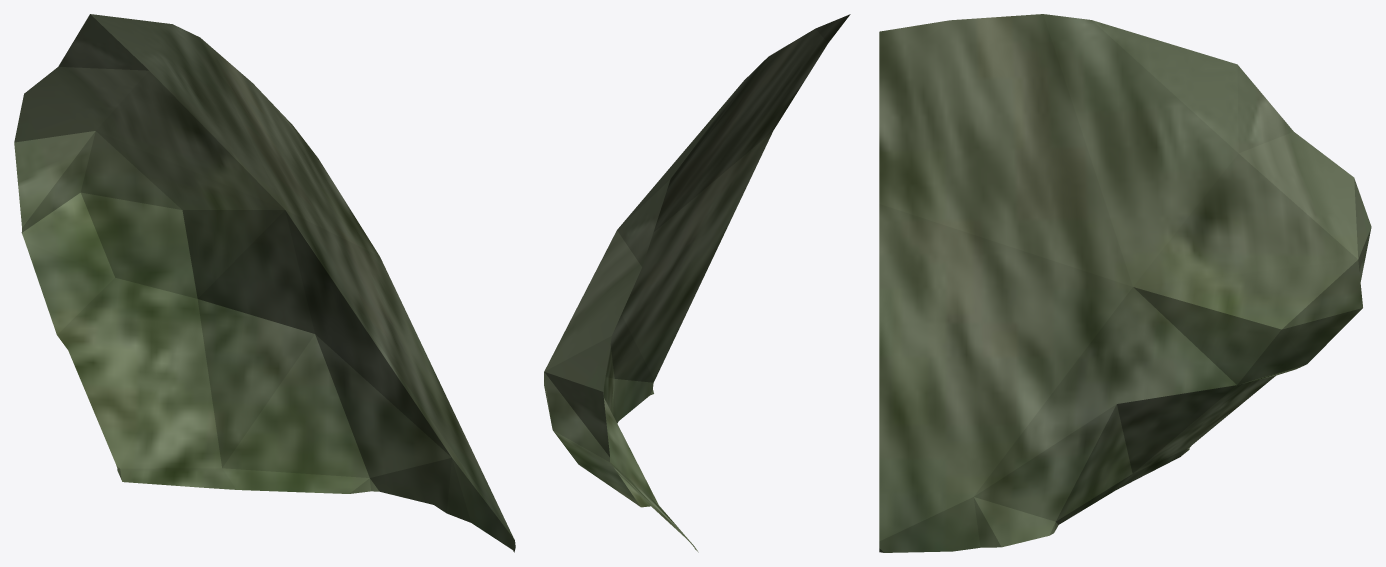
The picture shows the model from 3 angles, left to right: view 1: azimuth 30°, elevation 25°; view 2: azimuth 150°, elevation 25°; view 3: azimuth 270°, elevation 25°; orthographic projection. The views are drawn at different scales.
Bounding box in the file's own units: 0.5676 × 1.22 × 1.23.
Materials: 1 (1 with a texture image).
